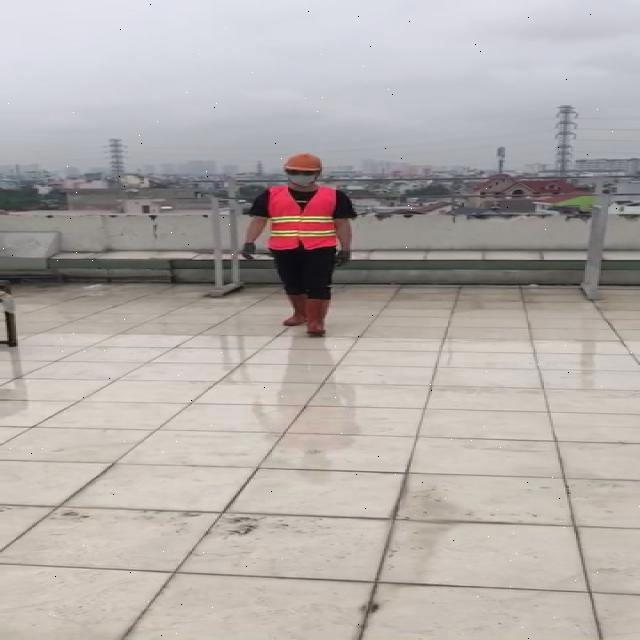Hard_hat: (278, 149, 327, 177)
Vest: (260, 184, 339, 253)
